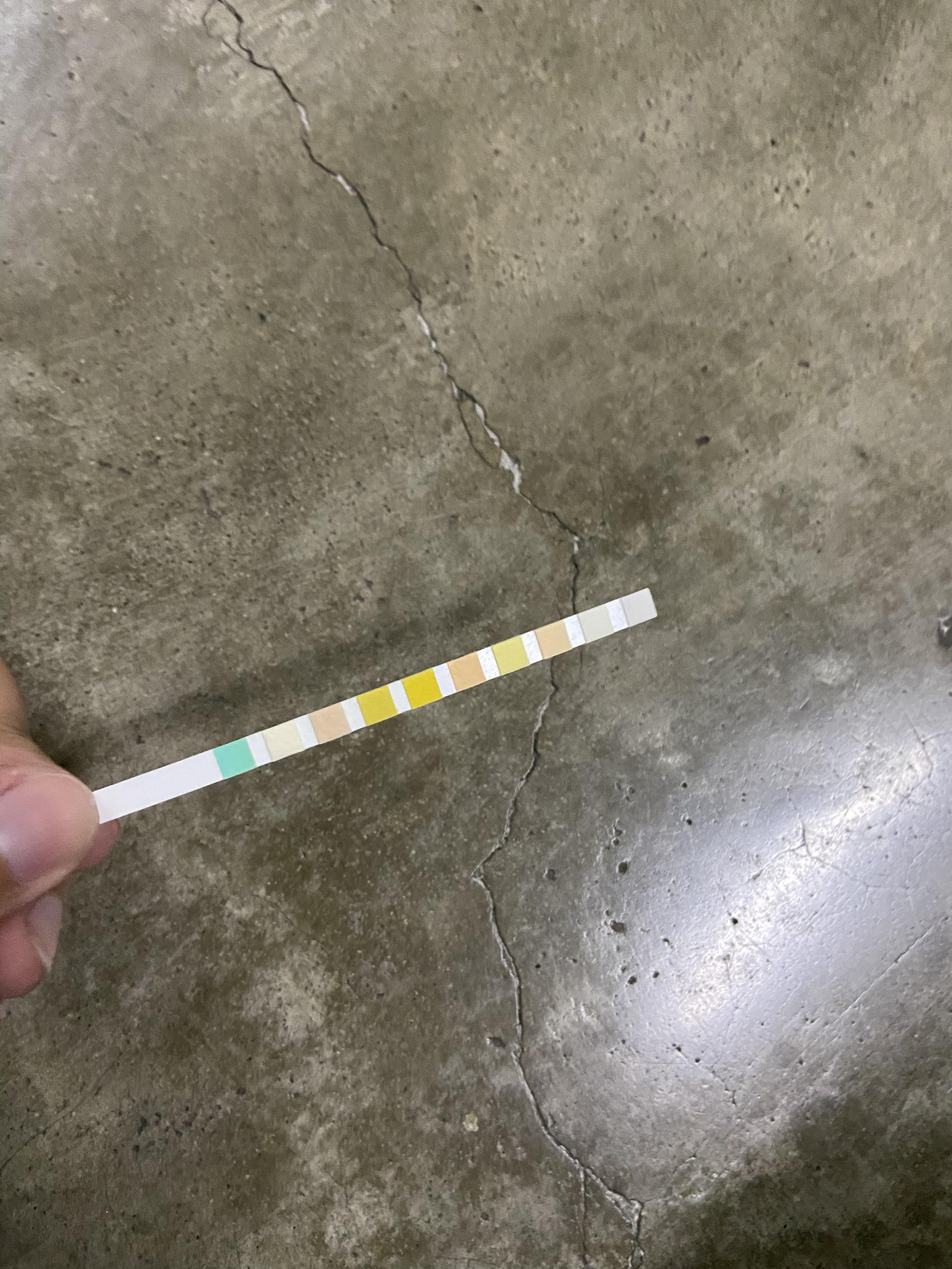Bilirubin: (271, 727, 297, 752)
Blood: (410, 676, 435, 702)
Glucose: (223, 745, 248, 771)
Ketone: (317, 711, 342, 736)
Leukocytes: (629, 595, 649, 619)
Nitrite: (586, 610, 606, 636)
Protein: (500, 642, 522, 669)
SpGravity: (366, 692, 389, 718)
Urobilinogen: (544, 626, 564, 652)
pH: (455, 660, 478, 684)
strip: (97, 587, 659, 820)
